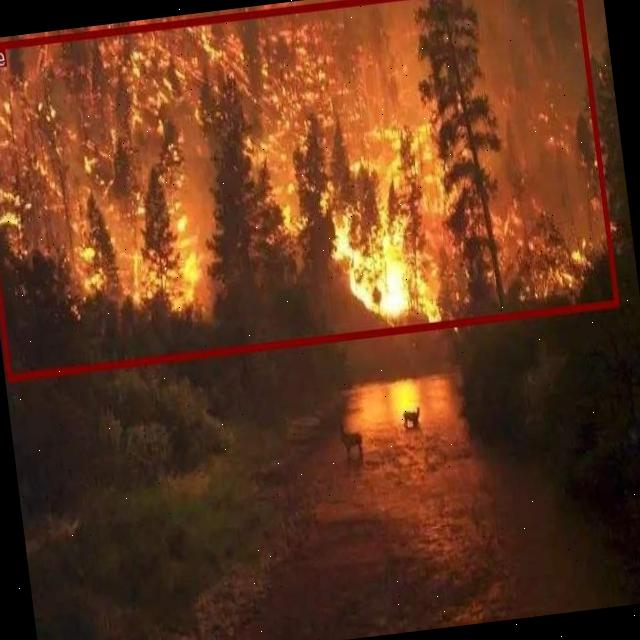fire: (0, 0, 617, 381)
